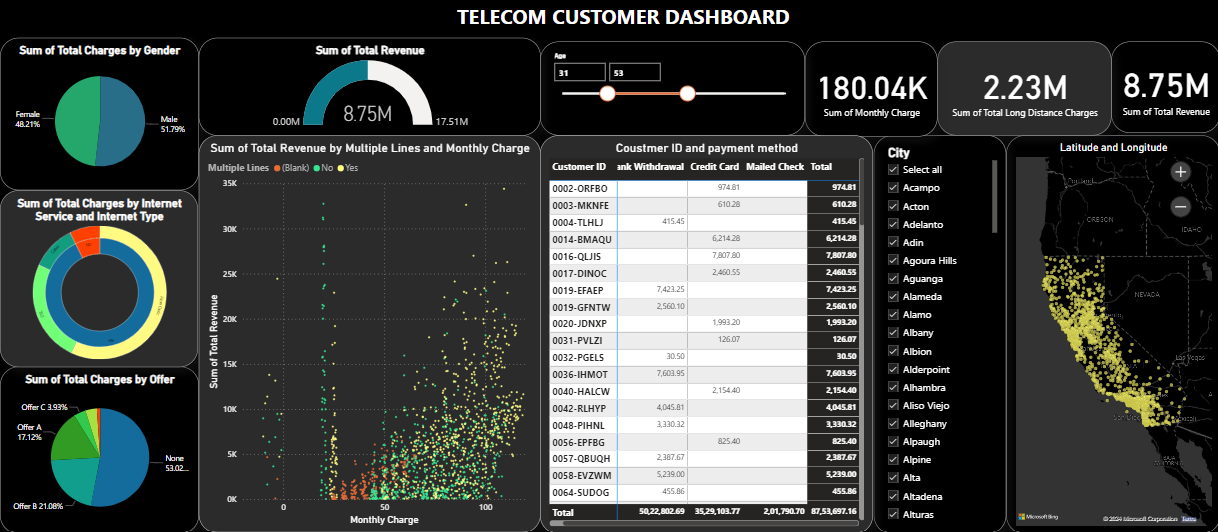

What the dashboard file says about the page in this screenshot:
{"tool":"powerbi","page":{"name":"Page 1","canvas":[1951,856],"ordinal":0},"visuals":[{"type":"textbox","box":[0,0,1727.1,68.6],"z":0},{"type":"pieChart","fields":{"Category":["telecom_customer_churn.Gender"],"Y":["Sum(telecom_customer_churn.Total Charges)"]},"box":[0,68.6,317.1,237.1],"z":1000},{"type":"pieChart","fields":{"Category":["telecom_customer_churn.Offer"],"Y":["Sum(telecom_customer_churn.Total Charges)"]},"box":[0,588.6,317.1,248.6],"z":2000},{"type":"Sunburst1445472000808","fields":{"Values":["Sum(telecom_customer_churn.Total Charges)"],"Nodes":["telecom_customer_churn.Internet Service","telecom_customer_churn.Internet Type"]},"box":[0,305.7,317.1,282.9],"z":3000},{"type":"map","fields":{"Y":["telecom_customer_churn.Latitude"],"X":["telecom_customer_churn.Longitude"]},"box":[1610,217.1,341.4,624.3],"z":4000},{"type":"card","fields":{"Values":["Sum(telecom_customer_churn.Total Revenue)"]},"box":[1778.6,58.6,172.9,155.7],"z":5000},{"type":"card","fields":{"Values":["Sum(telecom_customer_churn.Total Long Distance Charges)"]},"box":[1610,58.6,168.6,160],"z":6000},{"type":"slicer","fields":{"Values":["telecom_customer_churn.City"]},"box":[1397.1,218.6,212.9,622.9],"z":7000},{"type":"card","fields":{"Values":["Sum(telecom_customer_churn.Monthly Charge)"]},"box":[1397.1,58.6,212.9,160],"z":8000},{"type":"slicer","fields":{"Values":["telecom_customer_churn.Age"]},"box":[864.3,64.3,532.9,154.3],"z":9000},{"type":"scatterChart","fields":{"Y":["Sum(telecom_customer_churn.Total Revenue)"],"X":["telecom_customer_churn.Monthly Charge"],"Series":["telecom_customer_churn.Multiple Lines"]},"box":[317.1,218.6,547.1,637.1],"z":10000},{"type":"gauge","fields":{"Y":["Sum(telecom_customer_churn.Total Revenue)"]},"box":[317.1,61.4,547.1,157.1],"z":11000},{"type":"pivotTable","title":"Coustmer ID and payment method ","fields":{"Values":["Sum(telecom_customer_churn.Total Revenue)"],"Columns":["telecom_customer_churn.Payment Method"],"Rows":["telecom_customer_churn.Customer ID"]},"box":[864.3,217.1,532.9,638.6],"z":11001}]}

Visuals, with their boxes in screenshot pixels (x1, y1, x2, y2), scaled from the page's 1951x856 canvas onto the 1218x532 screenshot:
textbox: {"left": 0, "top": 0, "right": 1078, "bottom": 43}
pieChart - telecom_customer_churn.Gender x Sum(telecom_customer_churn.Total Charges): {"left": 0, "top": 43, "right": 198, "bottom": 190}
pieChart - telecom_customer_churn.Offer x Sum(telecom_customer_churn.Total Charges): {"left": 0, "top": 366, "right": 198, "bottom": 520}
Sunburst1445472000808 - Sum(telecom_customer_churn.Total Charges) x telecom_customer_churn.Internet Service: {"left": 0, "top": 190, "right": 198, "bottom": 366}
map - telecom_customer_churn.Latitude x telecom_customer_churn.Longitude: {"left": 1005, "top": 135, "right": 1217, "bottom": 523}
card - Sum(telecom_customer_churn.Total Revenue): {"left": 1110, "top": 36, "right": 1217, "bottom": 133}
card - Sum(telecom_customer_churn.Total Long Distance Charges): {"left": 1005, "top": 36, "right": 1110, "bottom": 136}
slicer - telecom_customer_churn.City: {"left": 872, "top": 136, "right": 1005, "bottom": 523}
card - Sum(telecom_customer_churn.Monthly Charge): {"left": 872, "top": 36, "right": 1005, "bottom": 136}
slicer - telecom_customer_churn.Age: {"left": 540, "top": 40, "right": 872, "bottom": 136}
scatterChart - Sum(telecom_customer_churn.Total Revenue) x telecom_customer_churn.Monthly Charge: {"left": 198, "top": 136, "right": 540, "bottom": 531}
gauge - Sum(telecom_customer_churn.Total Revenue): {"left": 198, "top": 38, "right": 540, "bottom": 136}
"Coustmer ID and payment method " pivotTable: {"left": 540, "top": 135, "right": 872, "bottom": 531}
